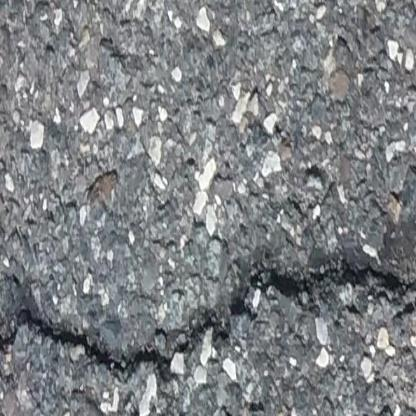Cracks: (0, 196, 416, 400)
